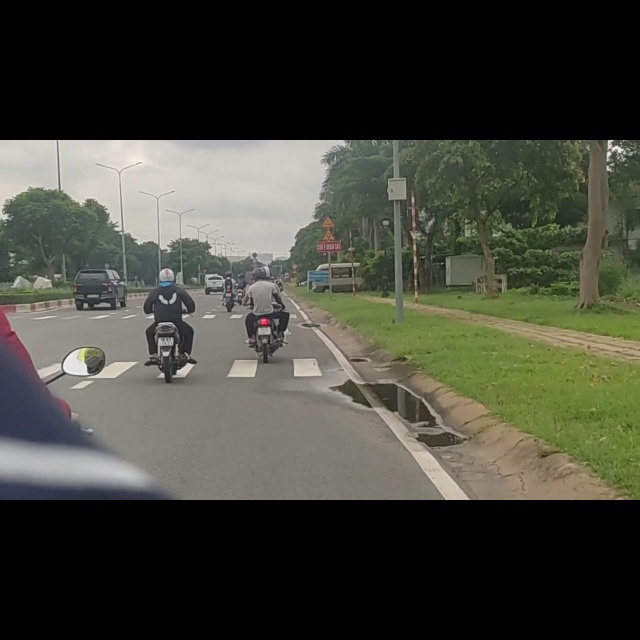bien_nguy_hiem: (323, 160, 337, 179), (322, 135, 335, 155), (252, 199, 257, 209)
